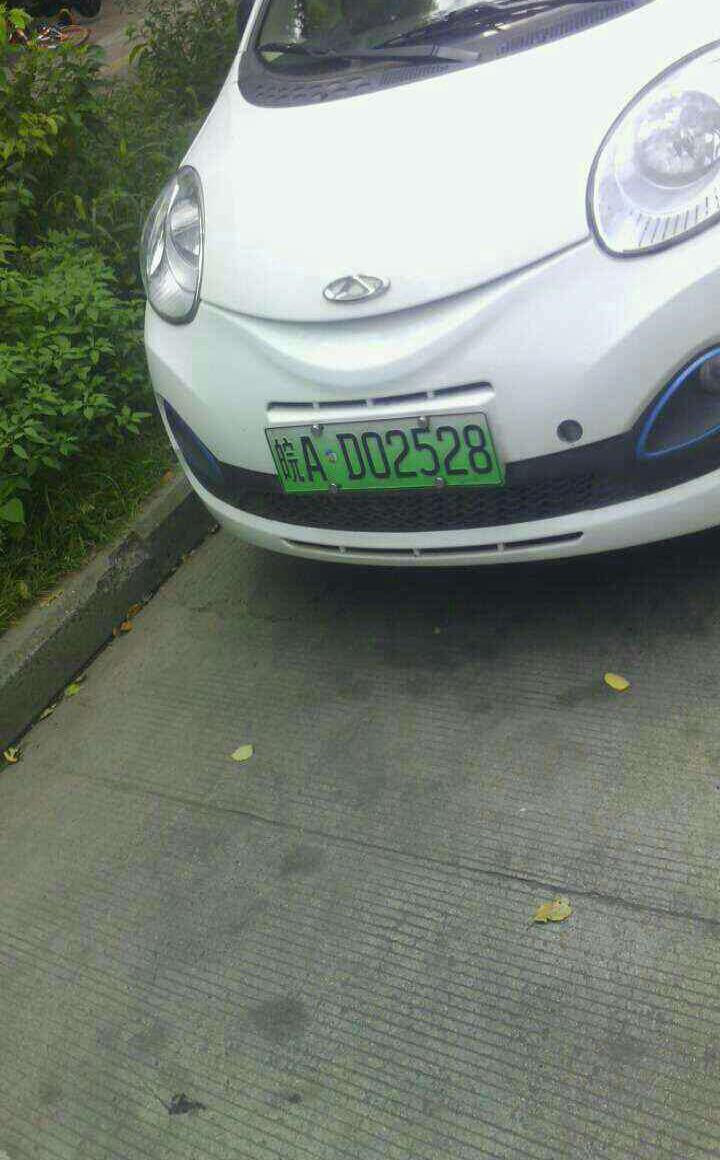car_id: (261, 413, 499, 494)
